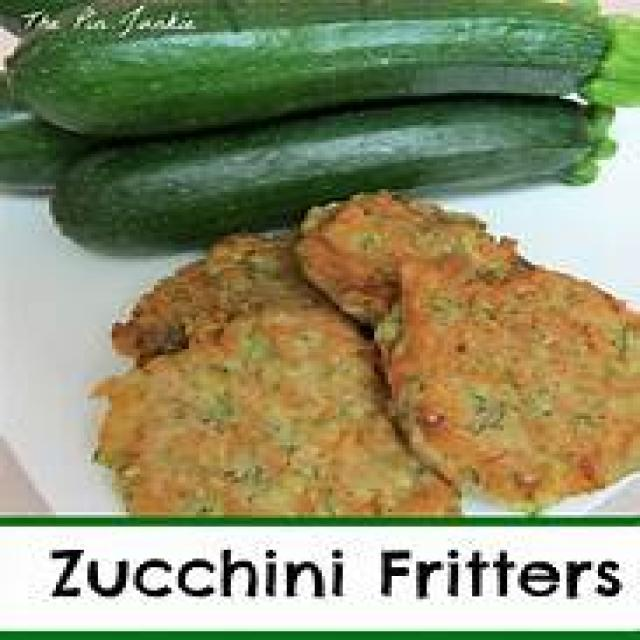Zucchini: (70, 115, 615, 204)
